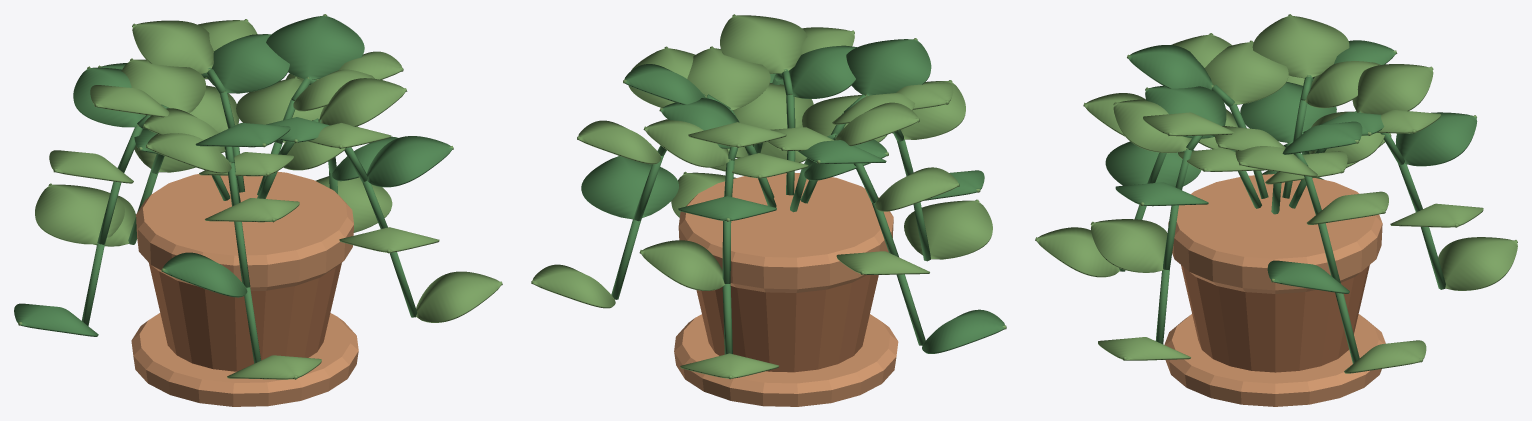
Rendered from Pothos.fbx.
The picture shows the model from 3 angles, left to right: view 1: azimuth 30°, elevation 25°; view 2: azimuth 150°, elevation 25°; view 3: azimuth 270°, elevation 25°; orthographic projection. The views are drawn at different scales.
Visible parts, largest first — view 1: Pothos; view 2: Pothos; view 3: Pothos.
Boxes of the visible parts, x1,y1,x2,y2 form: Pothos: [14, 14, 502, 406]; Pothos: [531, 14, 1006, 406]; Pothos: [1035, 14, 1517, 406].
Size of the model in its own units: 0.9249 by 0.6235 by 0.9506.
